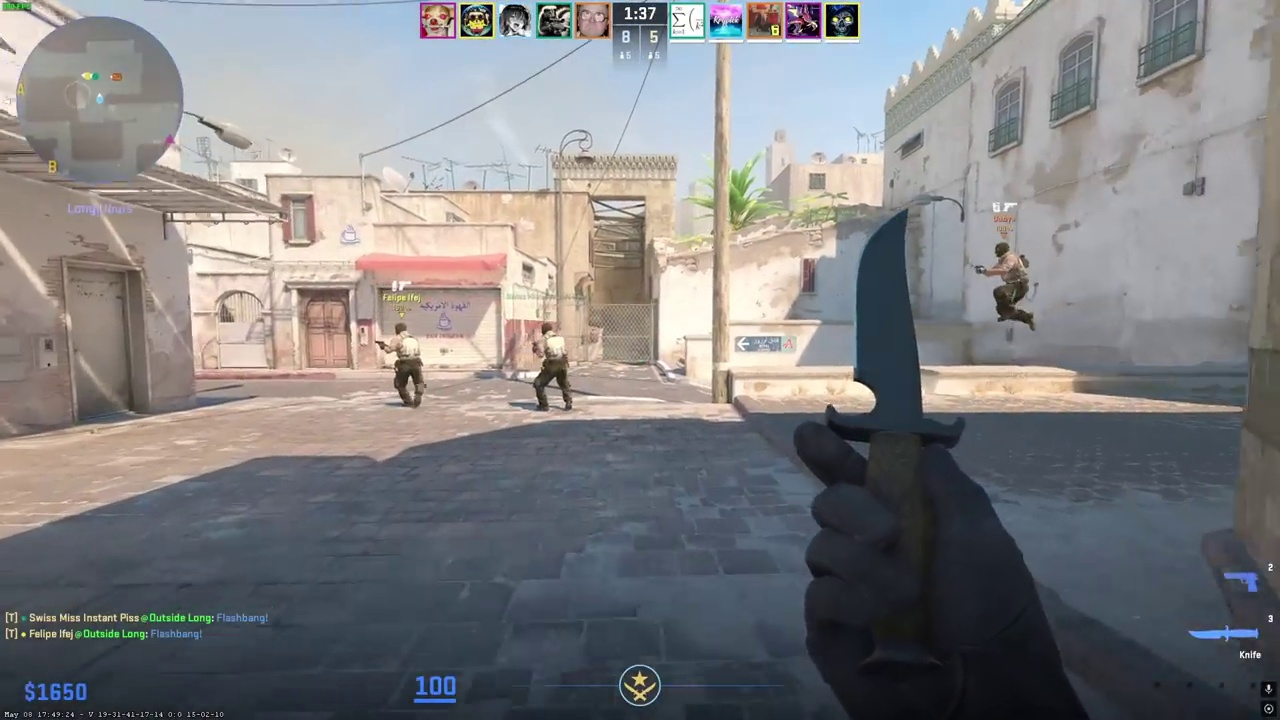Terrorist: (986, 240, 1036, 329), (530, 322, 573, 412), (388, 323, 427, 408)
